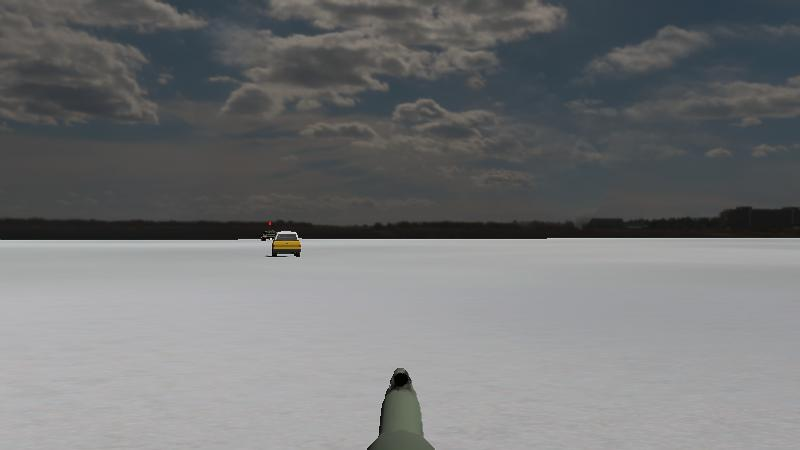car: (268, 228, 306, 261)
